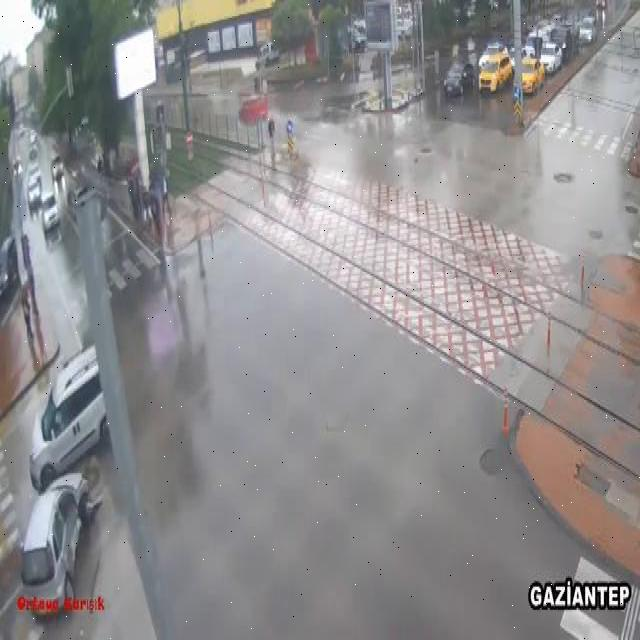moderate: (17, 329, 115, 622)
